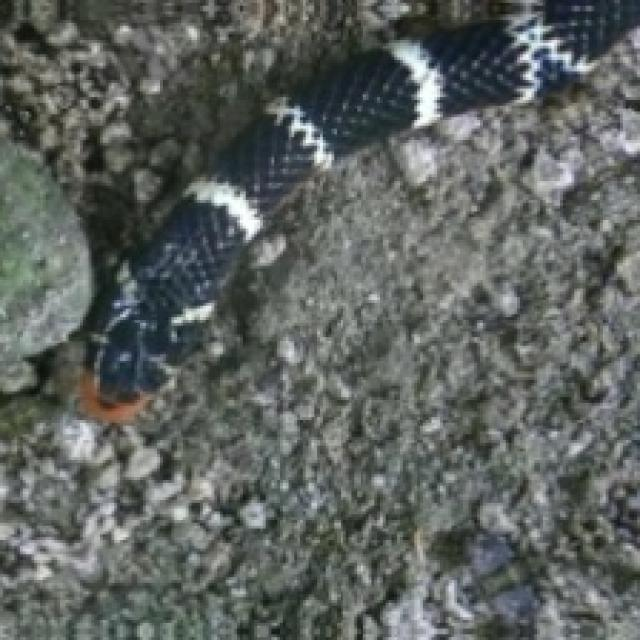barredcoral snake: (80, 0, 637, 420)
